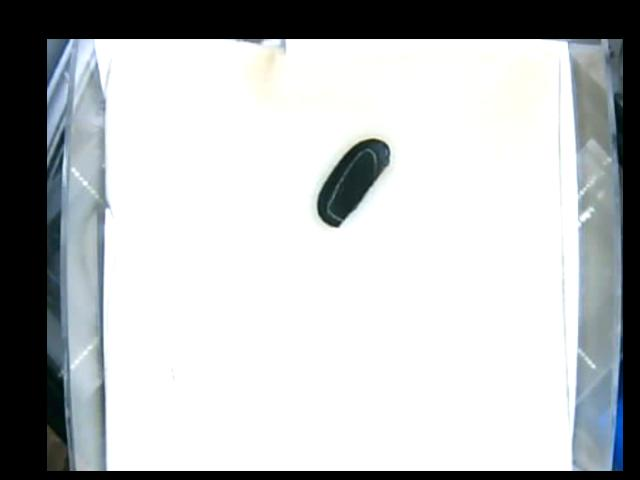Pebble: (317, 139, 392, 229)
